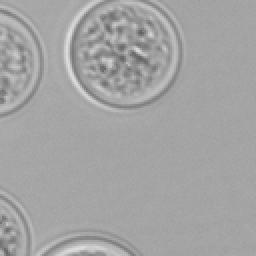picoshell: (64, 0, 182, 112), (0, 4, 44, 116), (34, 228, 138, 254), (0, 188, 32, 254)
